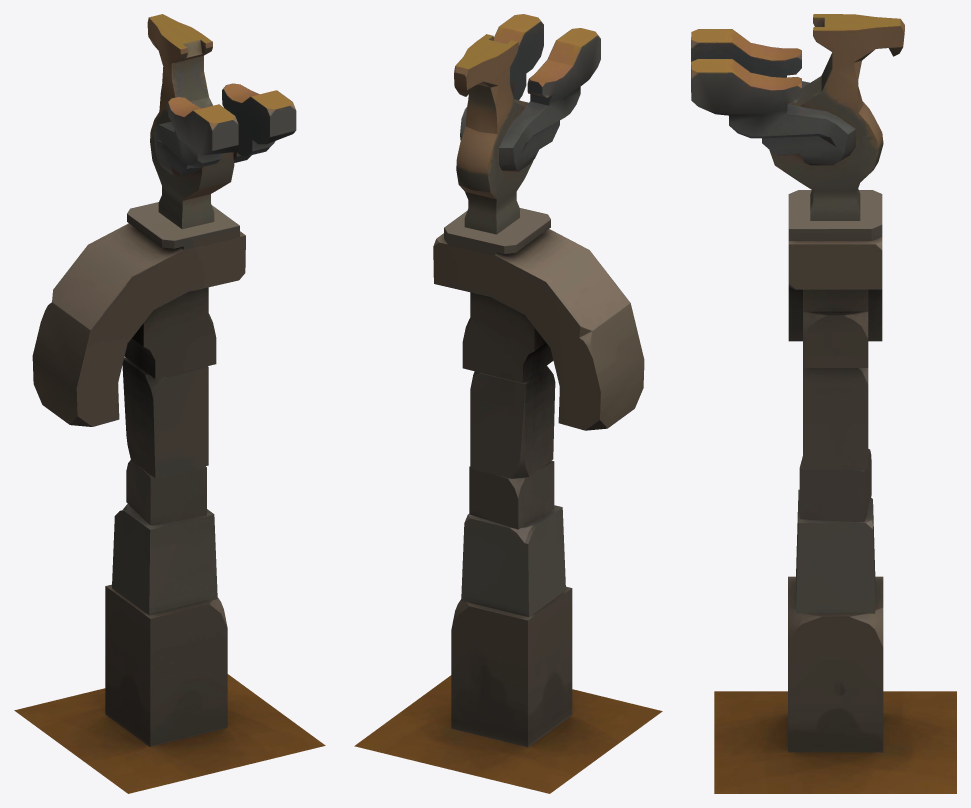
File: OBJ_StoneDoor_01.obj
3 views of the same model, side by side, from view 1: azimuth 30°, elevation 25°; view 2: azimuth 150°, elevation 25°; view 3: azimuth 270°, elevation 25° (orthographic). The views are drawn at different scales.
Visible parts, largest first — view 1: OBJ_StoneDoor_01, OBJ_Sculpture_05; view 2: OBJ_StoneDoor_01, OBJ_Sculpture_05; view 3: OBJ_StoneDoor_01, OBJ_Sculpture_05.
Boxes of the visible parts, x1=… form: OBJ_StoneDoor_01: x1=14, y1=202, x2=325, y2=793; OBJ_Sculpture_05: x1=147, y1=14, x2=296, y2=229; OBJ_StoneDoor_01: x1=354, y1=208, x2=662, y2=793; OBJ_Sculpture_05: x1=454, y1=14, x2=600, y2=234; OBJ_StoneDoor_01: x1=714, y1=190, x2=956, y2=793; OBJ_Sculpture_05: x1=691, y1=14, x2=904, y2=220.
Size of the model in its own units: 2.6 by 7.96 by 2.63.
Materials: 2 (2 with a texture image).
